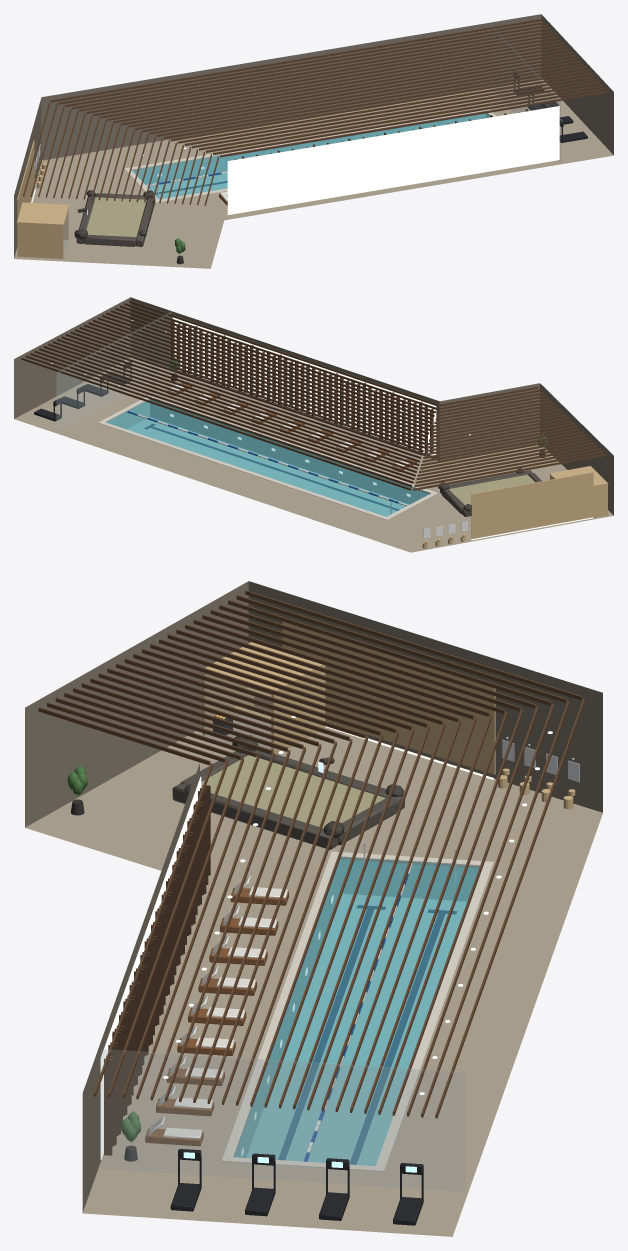
File: akane-spa.glb
The picture shows the model from 3 angles, top to bottom: view 1: azimuth 30°, elevation 25°; view 2: azimuth 150°, elevation 25°; view 3: azimuth 270°, elevation 25°; orthographic projection. The views are drawn at different scales.
Visible parts, largest first — view 1: Space_SlatWood, Space_SpaWall, Space_SpaStone, Space_LightWall, Space_PoolWater, Space_PoolTile, Space_Hinoki, Space_OnsenWater, Space_BathStone, Space_GlassPartition, Space_Coping, Space_GymDark; view 2: Space_SlatWood, Space_SpaStone, Space_SpaWall, Space_PoolWater, Space_PoolTile, Space_Hinoki, Space_Fin, Space_GlassPartition, Space_LightWall, Space_Coping, Space_GymDark, Space_OnsenWater (+6 smaller); view 3: Space_SpaStone, Space_SlatWood, Space_GlassPartition, Space_PoolWater, Space_SpaWall, Space_PoolTile, Space_Hinoki, Space_Fin, Space_Coping, Space_OnsenWater, Space_BathStone, Space_Teak (+5 smaller).
Boxes of the visible parts, x1,y1,x2,y2 form: Space_SlatWood: (23,18,608,205); Space_SpaWall: (14,14,613,257); Space_SpaStone: (14,79,613,268); Space_LightWall: (227,106,559,214); Space_PoolWater: (133,113,489,199); Space_PoolTile: (132,113,490,199); Space_Hinoki: (17,140,69,258); Space_OnsenWater: (86,197,146,237); Space_BathStone: (76,193,155,246); Space_GlassPartition: (63,24,560,256); Space_Coping: (124,109,496,202); Space_GymDark: (513,71,587,142); Space_SlatWood: (21,300,606,490); Space_SpaStone: (14,357,613,552); Space_SpaWall: (14,297,613,515); Space_PoolWater: (107,400,428,516); Space_PoolTile: (106,399,430,516); Space_Hinoki: (422,466,608,548); Space_Fin: (171,321,433,453); Space_GlassPartition: (56,312,171,431); Space_LightWall: (172,317,436,455); Space_Coping: (98,395,437,520); Space_GymDark: (34,361,131,421); Space_OnsenWater: (449,474,535,505); Space_SpaStone: (25,715,602,1236); Space_SlatWood: (38,590,584,1118); Space_GlassPartition: (101,674,465,1191); Space_PoolWater: (235,859,478,1165); Space_SpaWall: (25,581,602,1212); Space_PoolTile: (233,857,479,1165); Space_Hinoki: (201,621,575,809); Space_Fin: (104,785,210,1155); Space_Coping: (222,851,493,1171); Space_OnsenWater: (201,755,385,828); Space_BathStone: (172,750,404,849); Space_Teak: (145,887,288,1146).
Size of the model in its own units: 44.04 by 6 by 20.09.
